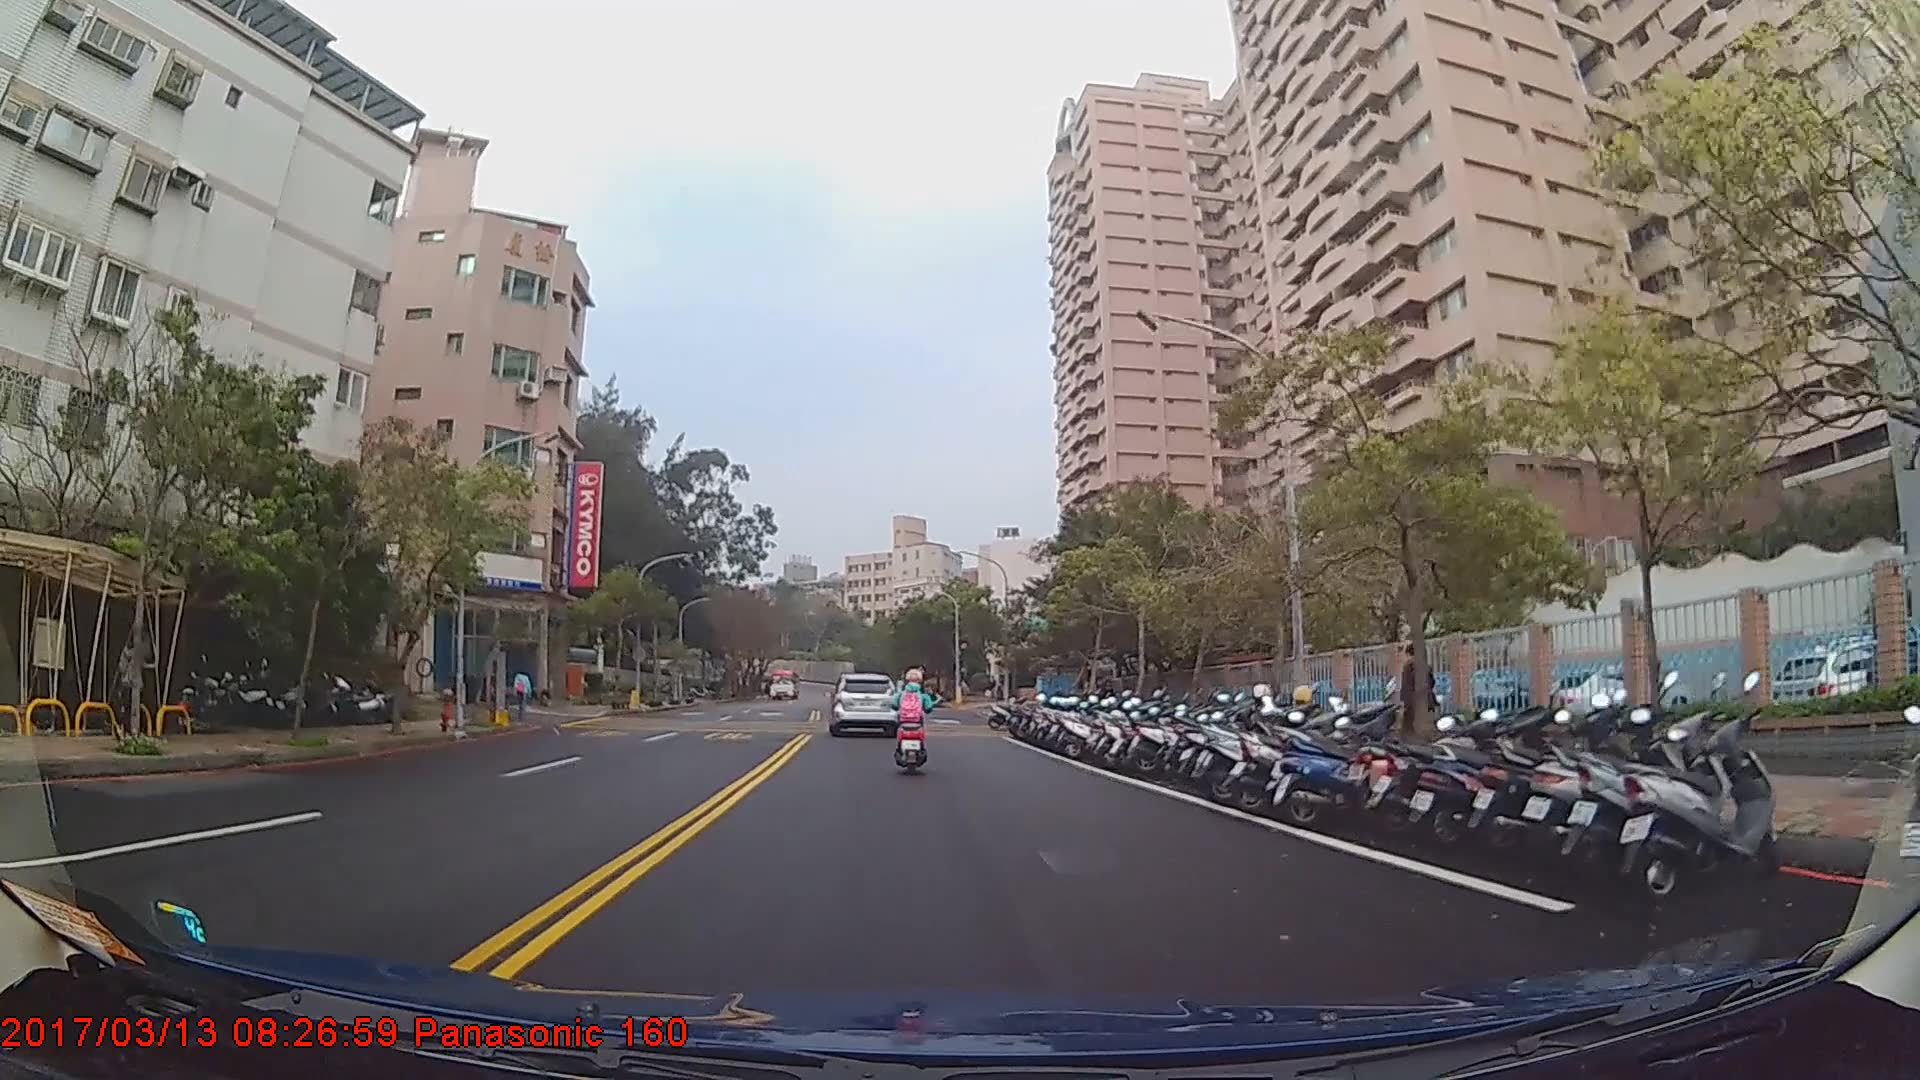pedestrian: (1400, 648, 1445, 764), (115, 630, 151, 749), (511, 663, 534, 718)
rider: (889, 672, 935, 784)
vehicle: (829, 673, 899, 736), (766, 667, 800, 702)
